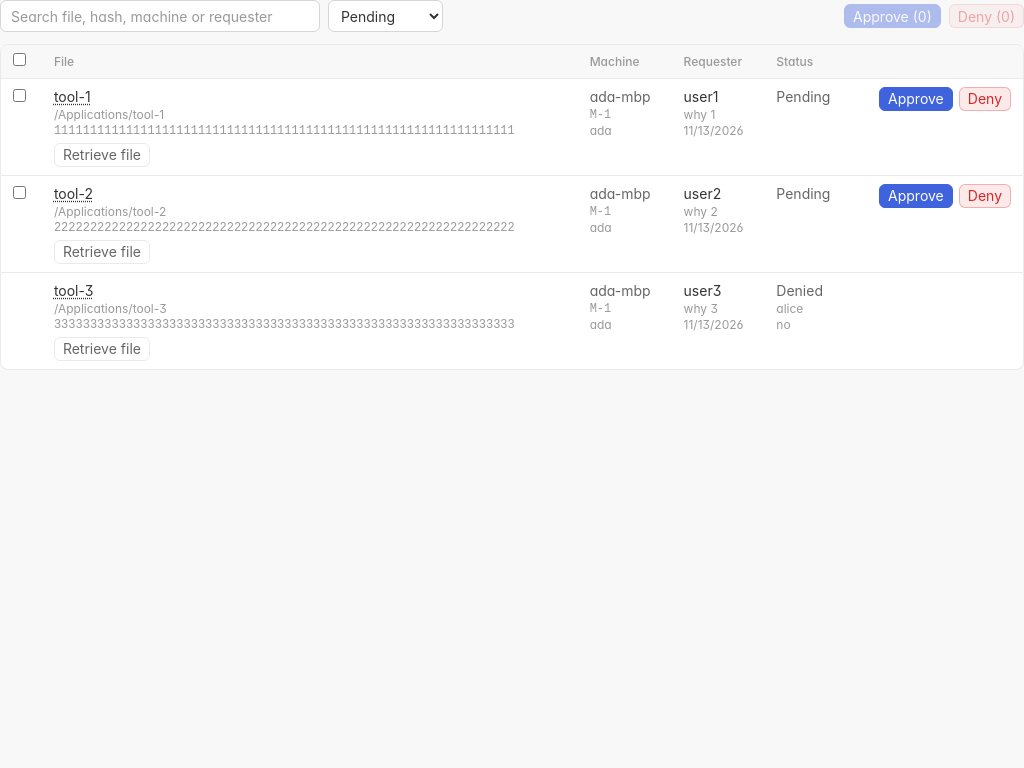
RequestsTab › approves one request for the requesting machine by default
Click the button with aria-label "Approve tool-1" at (916, 99), box [879, 87, 953, 111]
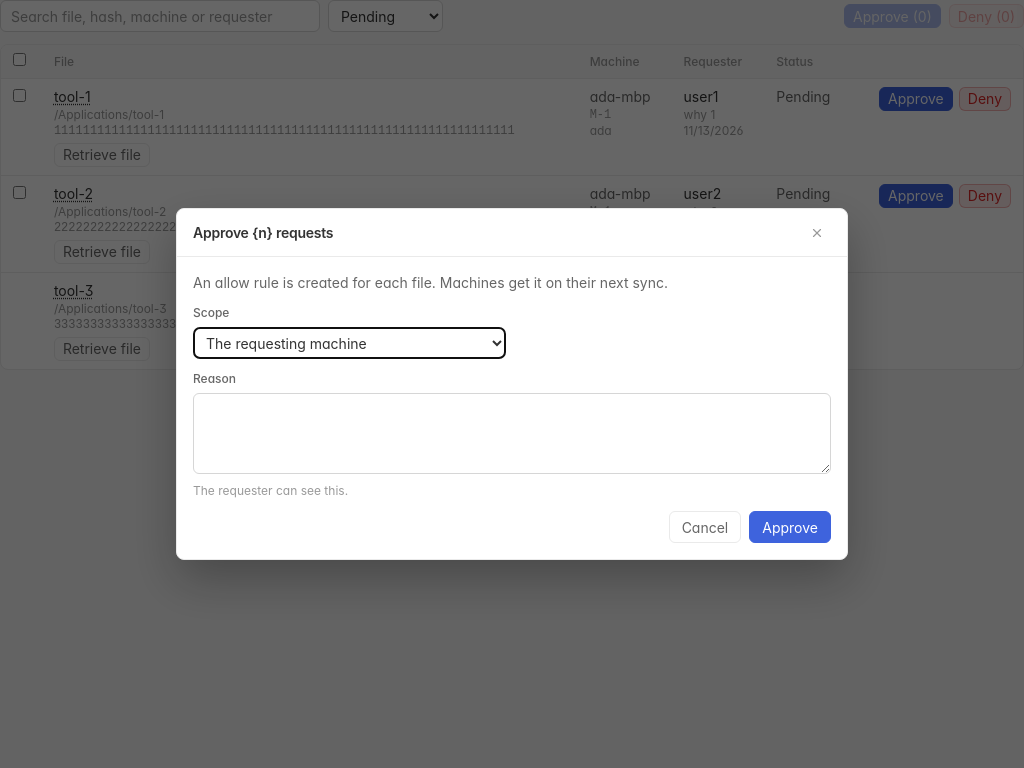
Click the button "Approve" at (790, 527), box [749, 511, 831, 543]
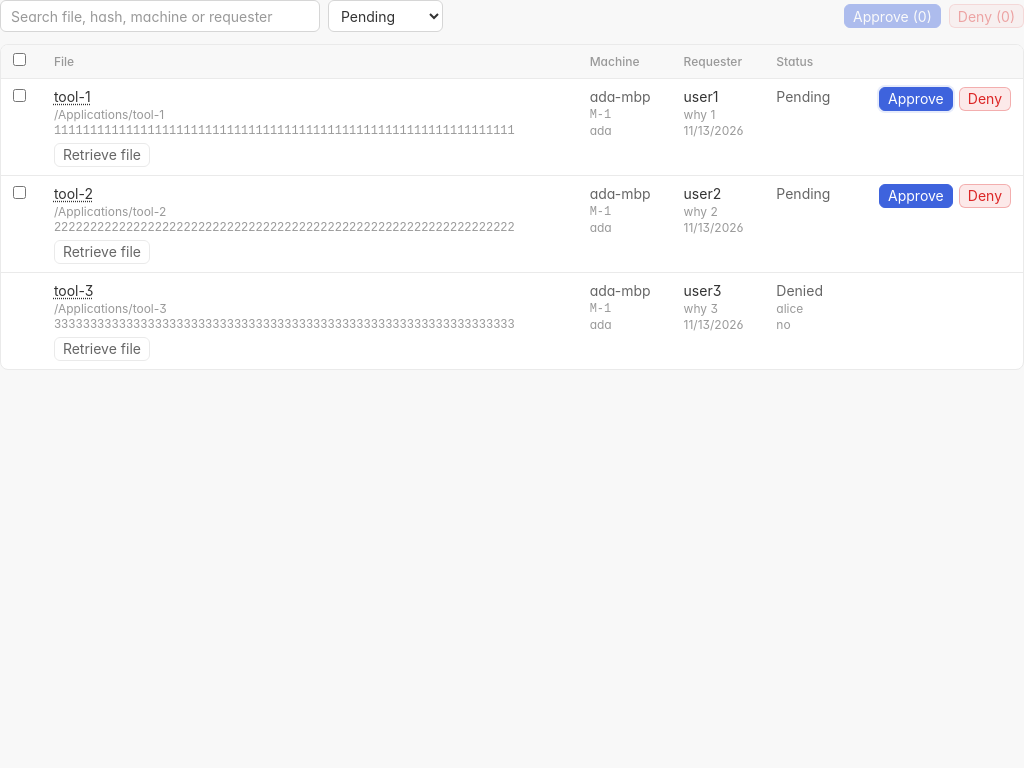
Expected: the dialog is gone
